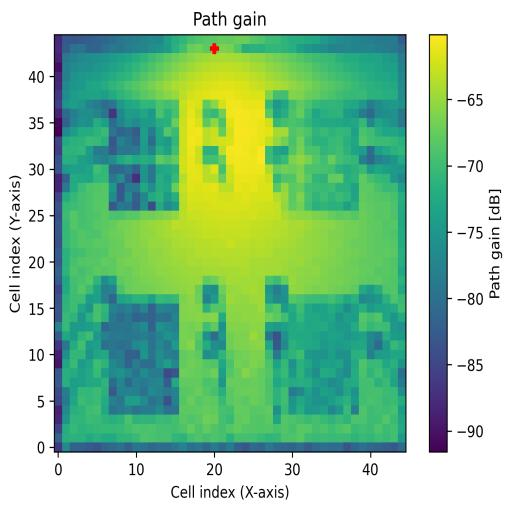Concrete: (289, 102, 360, 210)
Glass: (109, 99, 180, 210)
Metal: (289, 294, 360, 416)
Wood: (108, 294, 178, 415)
